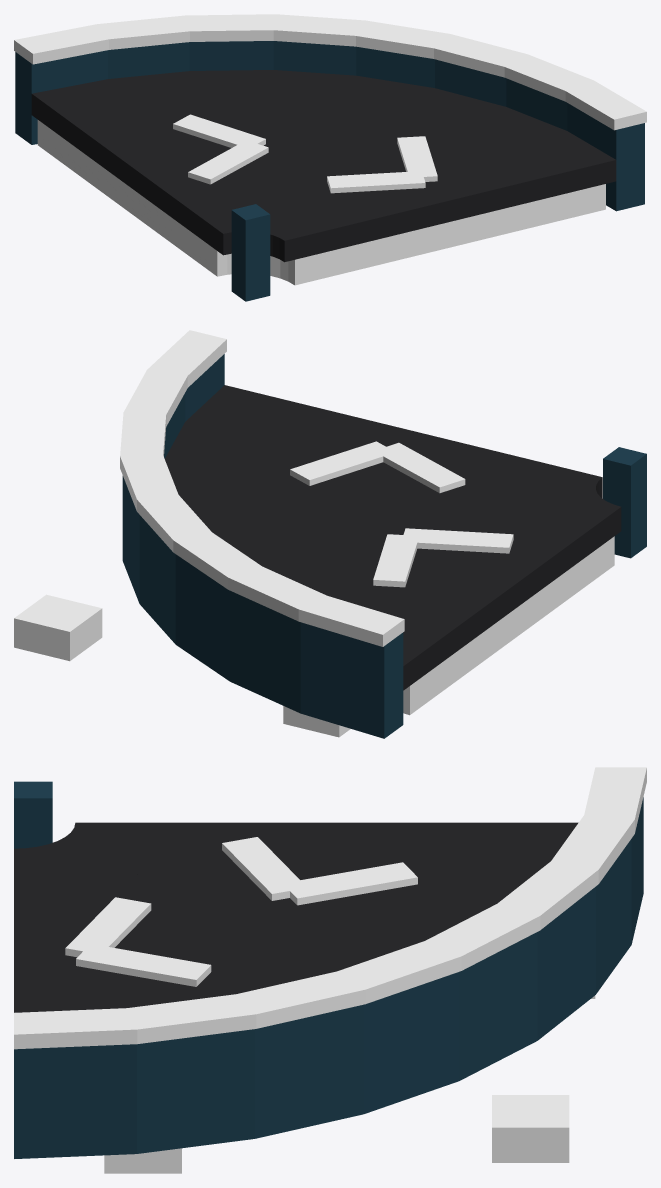
File: belt_corner_r.obj
3 views of the same model, one above another, from view 1: azimuth 30°, elevation 25°; view 2: azimuth 150°, elevation 25°; view 3: azimuth 270°, elevation 25° (orthographic). The views are drawn at different scales.
Visible parts, largest first — view 1: Belt; view 2: Belt; view 3: Belt.
Part boxes in pixels (<box>): Belt: <box>14,14,646,301</box>; Belt: <box>14,330,646,738</box>; Belt: <box>14,767,646,1173</box>.
Size of the model in its own units: 0.98 by 0.275 by 0.98.
